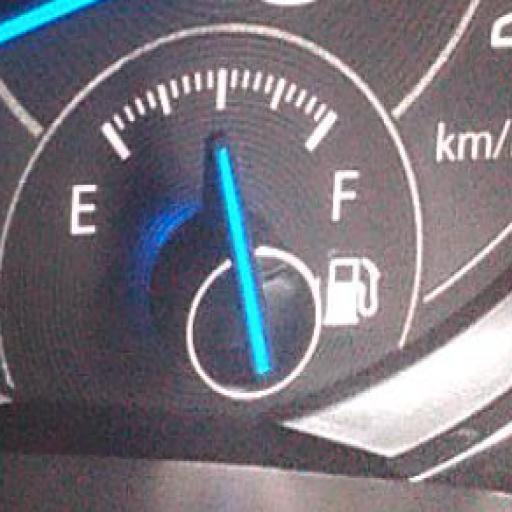empty: (70, 182, 99, 238)
fuel_icon: (323, 255, 381, 332)
full: (332, 165, 360, 221)
guage_area: (12, 12, 434, 412)
needle_center: (186, 237, 320, 401)
needle_tip: (208, 136, 244, 211)
